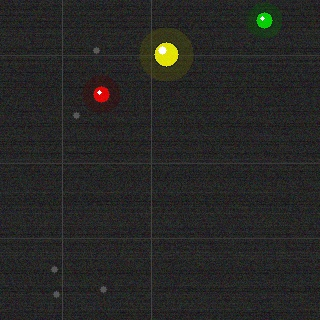green_normal: (254, 10, 274, 30)
red_fault: (91, 84, 111, 104)
yellow_warning: (152, 40, 180, 68)
